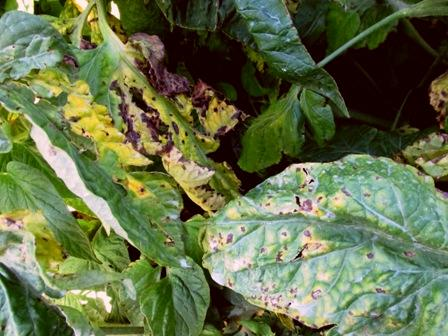Tomato Early blight leaf: (196, 154, 436, 327)
